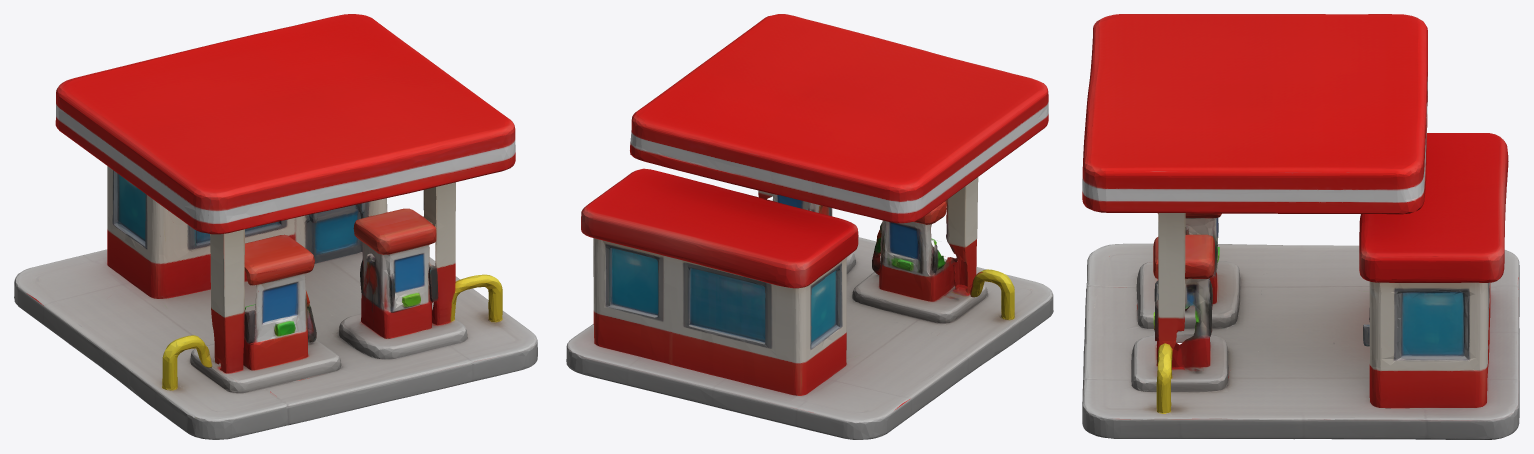
File: gas_station.glb
3 views of the same model, side by side, from view 1: azimuth 30°, elevation 25°; view 2: azimuth 150°, elevation 25°; view 3: azimuth 270°, elevation 25° (orthographic). The views are drawn at different scales.
Parts seen in each view (by area): view 1: geometry_0; view 2: geometry_0; view 3: geometry_0.
Part boxes in pixels (left/top/right/bottom): geometry_0: left=14, top=14, right=537, bottom=439; geometry_0: left=566, top=14, right=1053, bottom=439; geometry_0: left=1082, top=14, right=1519, bottom=439.
Bounding box in the file's own units: 0.9446 × 0.6403 × 0.9875.
Materials: 1 (1 with a texture image).
